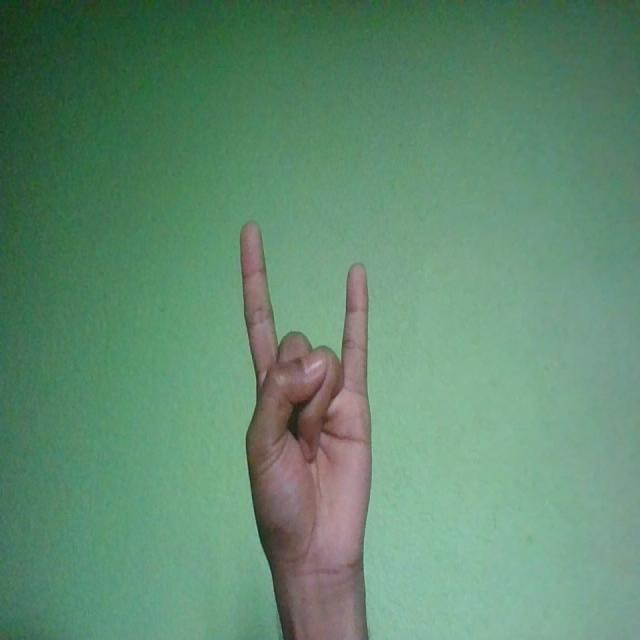open Plam: (239, 219, 372, 585)
